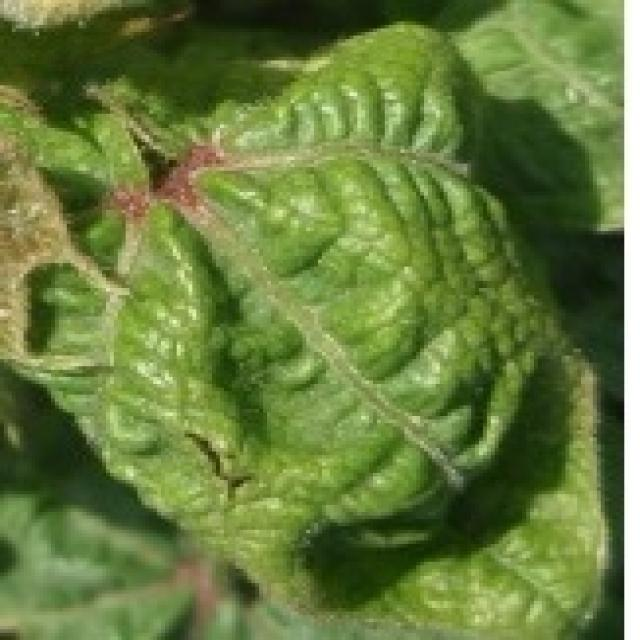Healthy Leaf: (52, 62, 576, 578)
Leaf Curl Virus: (52, 59, 572, 576)
